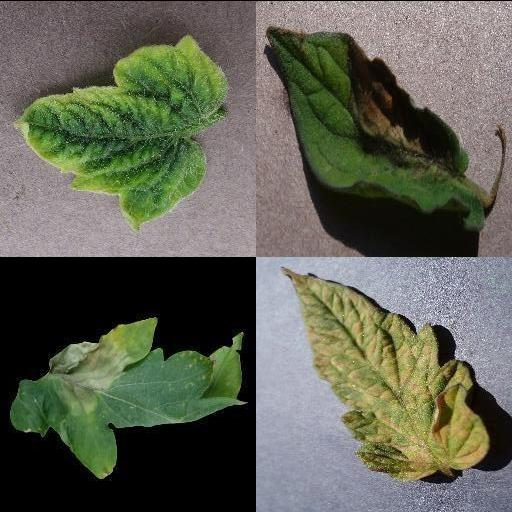Late Blight: (264, 24, 486, 230), (10, 315, 248, 475)
Leaf Mold: (280, 265, 488, 482)
Yellow Leaf Curl Virus: (14, 35, 232, 229)
